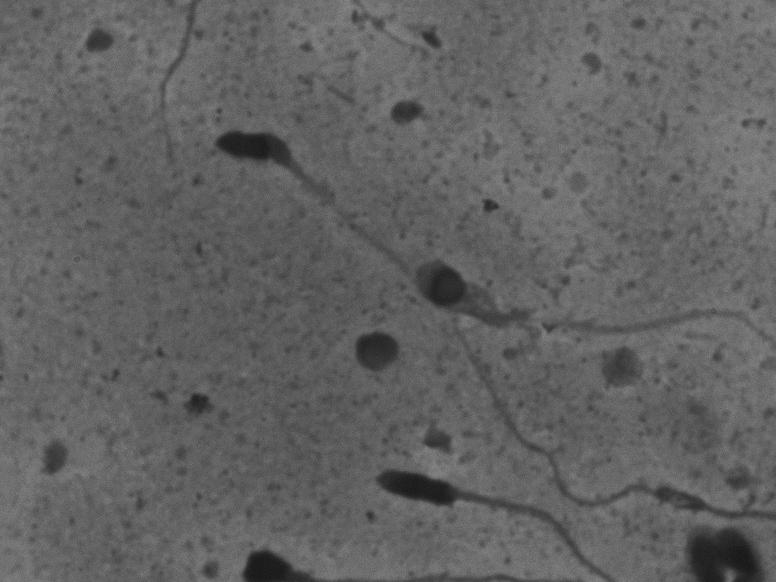Abnormal: (409, 222, 750, 379), (192, 100, 400, 296), (344, 465, 603, 574)
